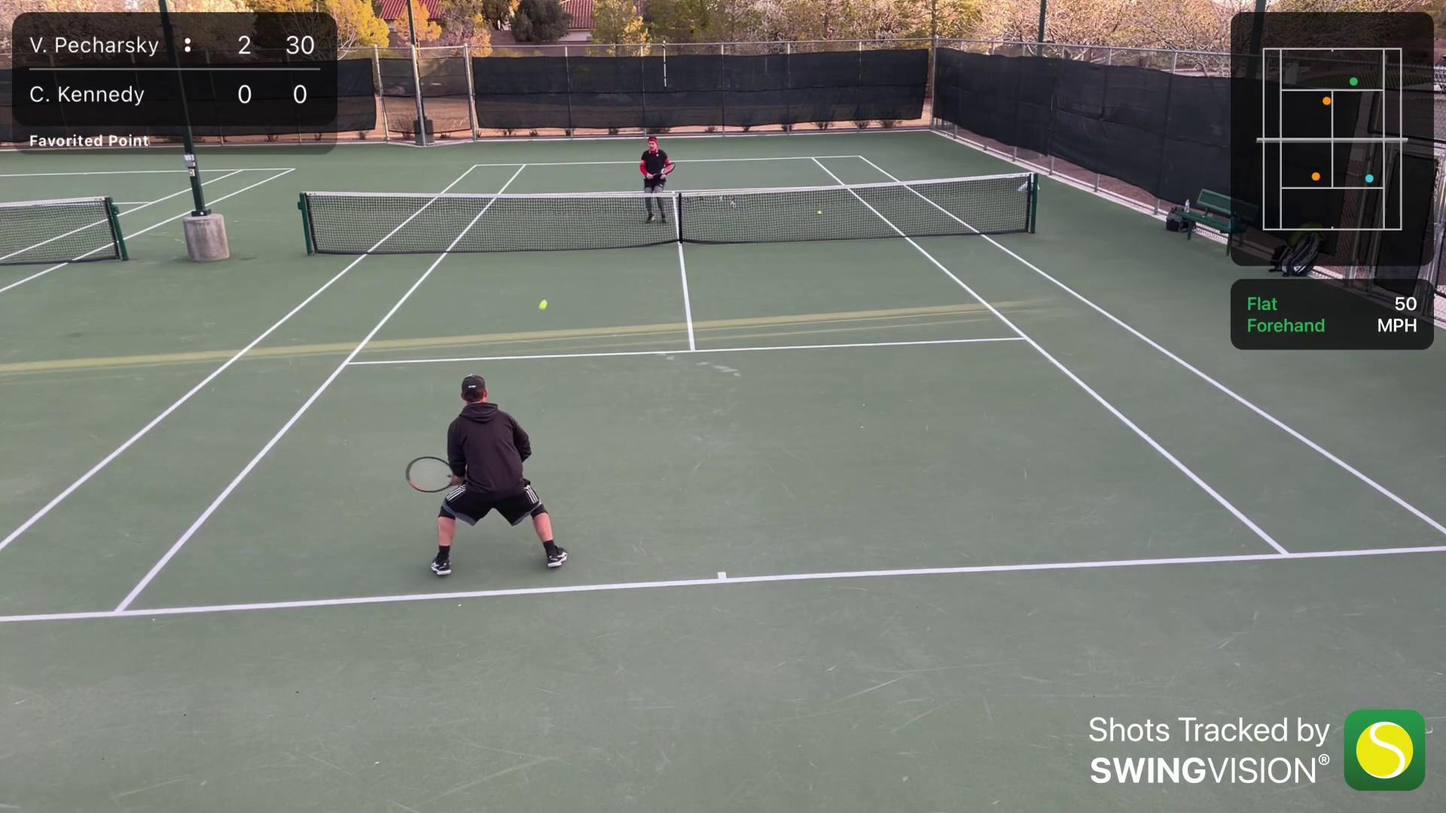ball: (535, 296, 551, 311), (817, 209, 823, 215)
